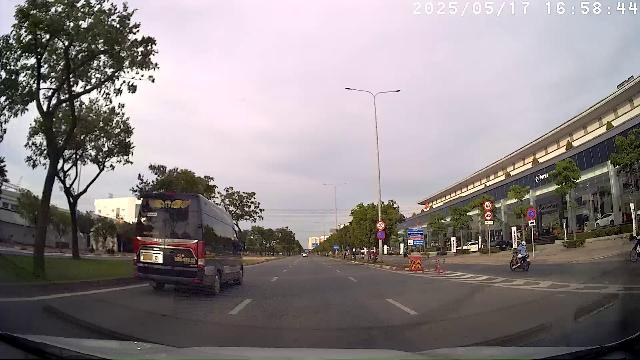127-toc-do-toi-da-60: (483, 200, 492, 211)
130-cam-dung-va-do-xe: (527, 208, 536, 220), (377, 231, 386, 240)
